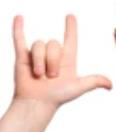back: (9, 10, 113, 103)
